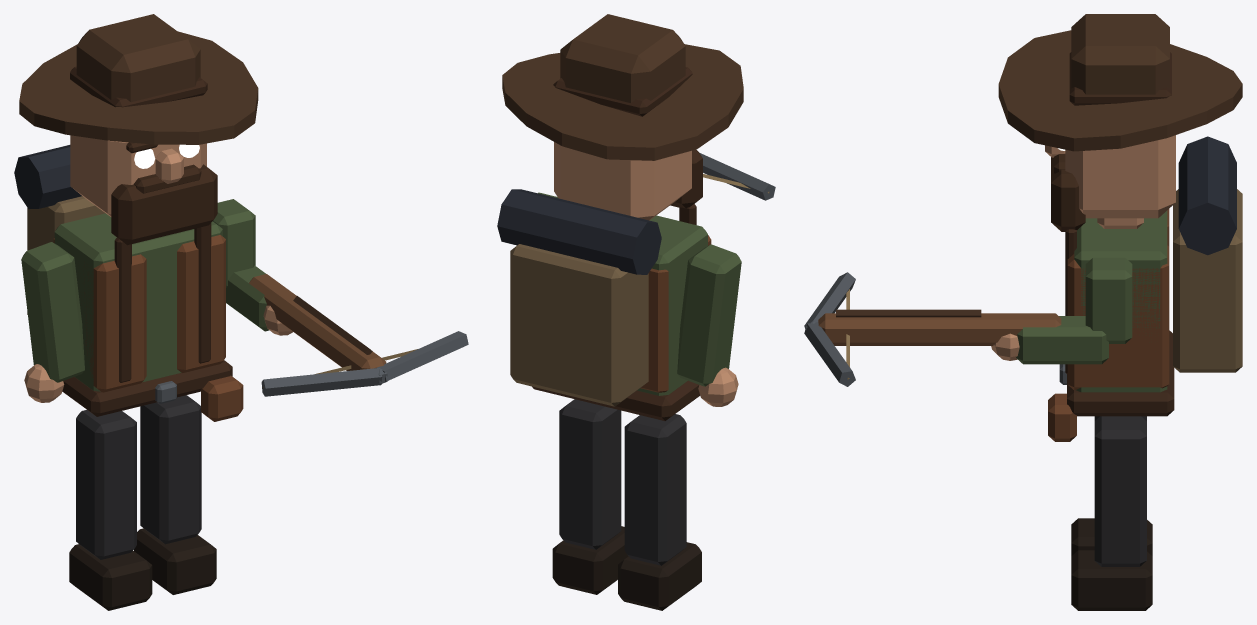
Rendered from hunter_mill.glb.
3 views of the same model, side by side, from view 1: azimuth 30°, elevation 25°; view 2: azimuth 150°, elevation 25°; view 3: azimuth 270°, elevation 25° (orthographic).
Parts seen in each view (by area): view 1: Hunter, Arm; view 2: Hunter, Arm; view 3: Hunter, Arm.
Boxes of the visible parts, bbox=[...] form: Hunter: bbox=[14, 14, 258, 610]; Arm: bbox=[213, 199, 468, 396]; Hunter: bbox=[497, 14, 743, 610]; Arm: bbox=[538, 153, 775, 200]; Hunter: bbox=[998, 14, 1242, 610]; Arm: bbox=[804, 257, 1132, 386].
Bounding box in the file's own units: 0.6103 × 1.05 × 0.7545.
